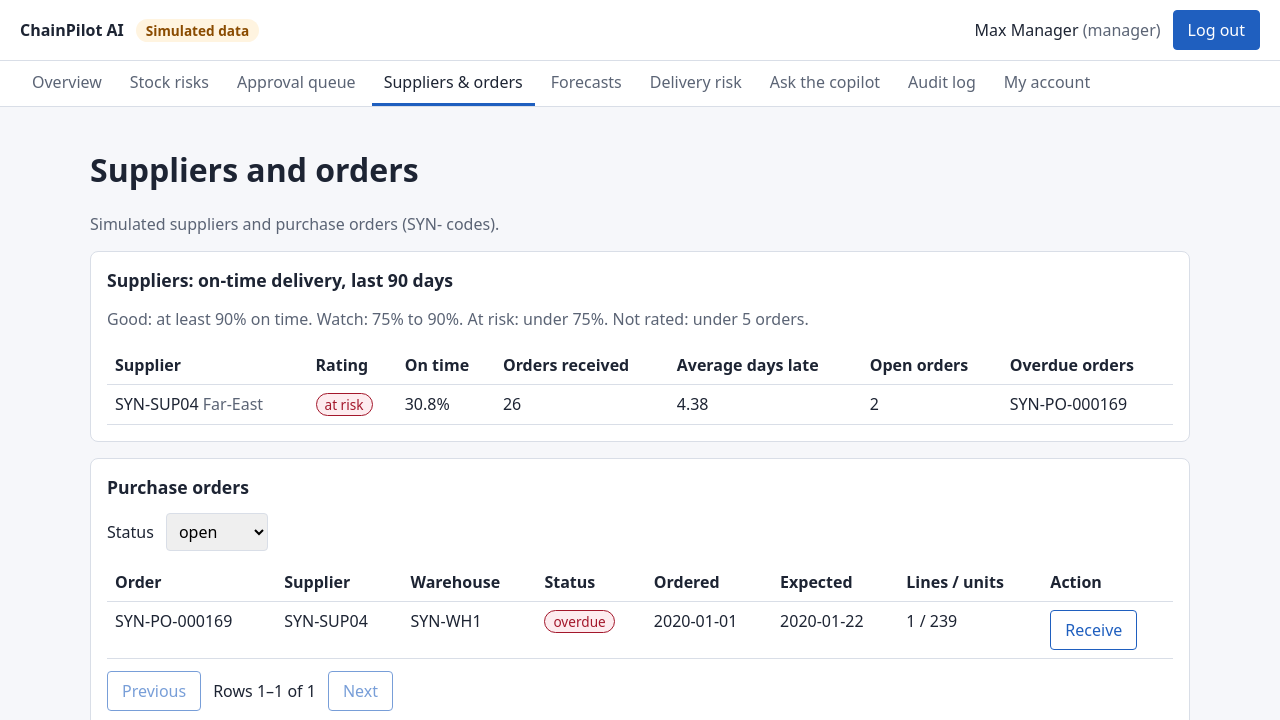
Test: suppliers and orders › lets a manager receive an order and shows a refusal
Click the button "Receive": (1094, 630) [1050,610,1137,650]
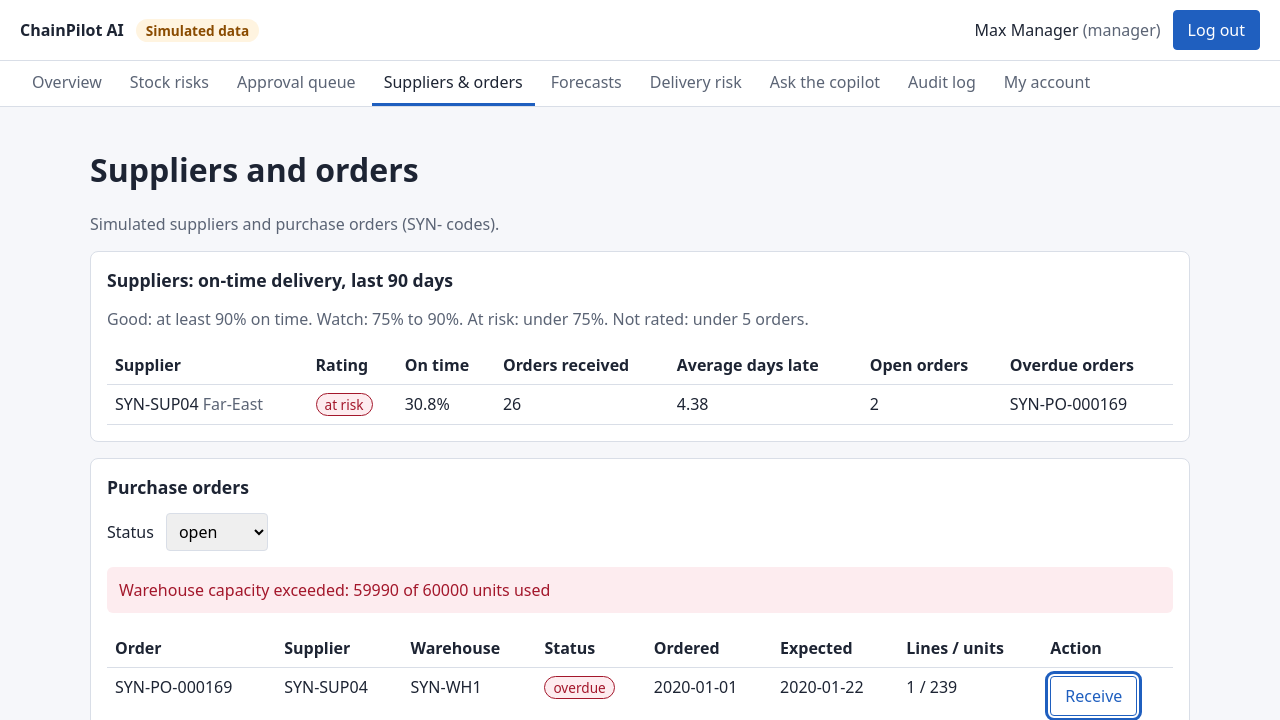
Result: the message shows "Warehouse capacity exceeded" at [119,580,550,602]
